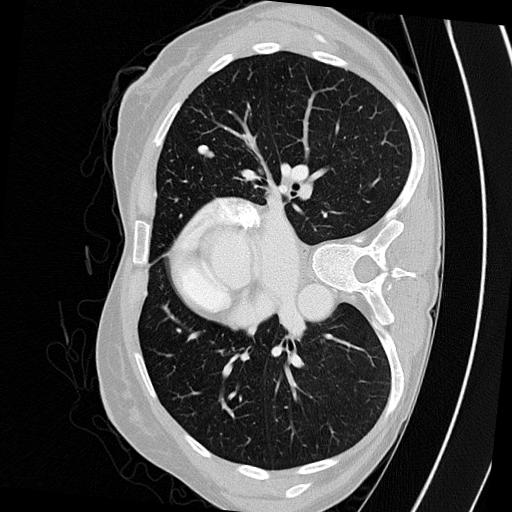nodule: (196, 140, 215, 159)
